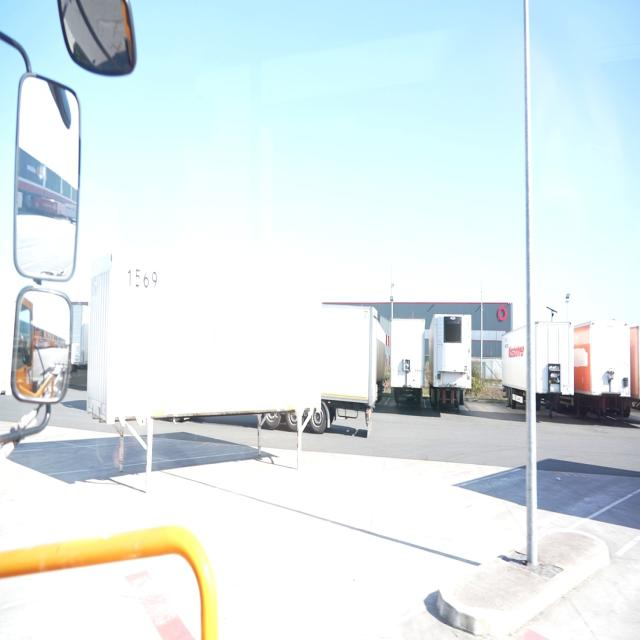Code: (122, 262, 163, 292)
